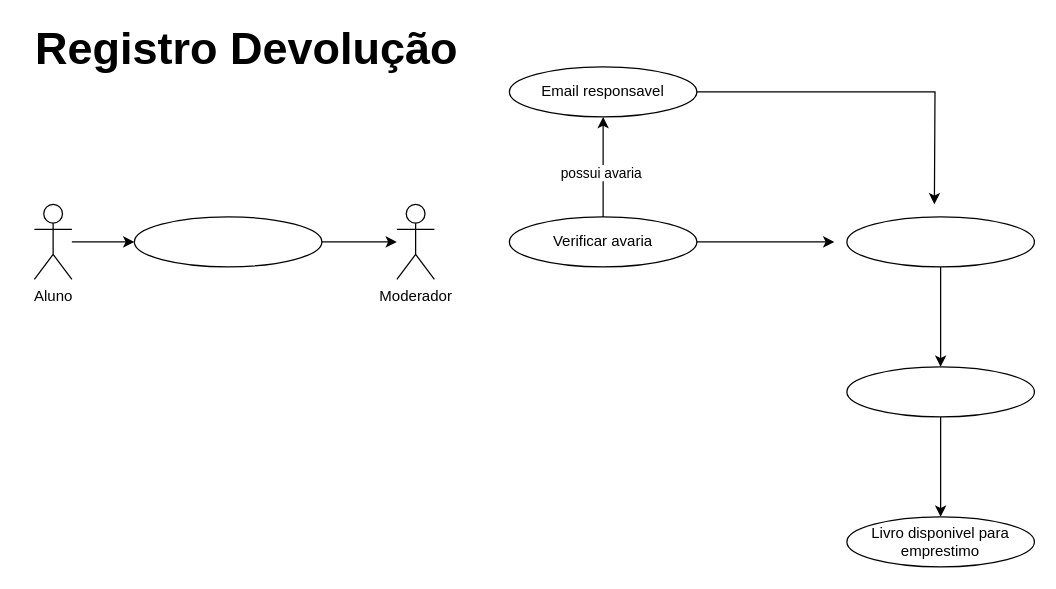
The diagram is 1056 pixels wide and 589 high, and some of its shapes have lost their labels. Here are the shapes that lost their labels. From the top down, the centre of each, then its label:
(x=227, y=241): Realizar devolução
(x=940, y=241): Registrar devolução
(x=940, y=391): Atualizar exemplar do livro
